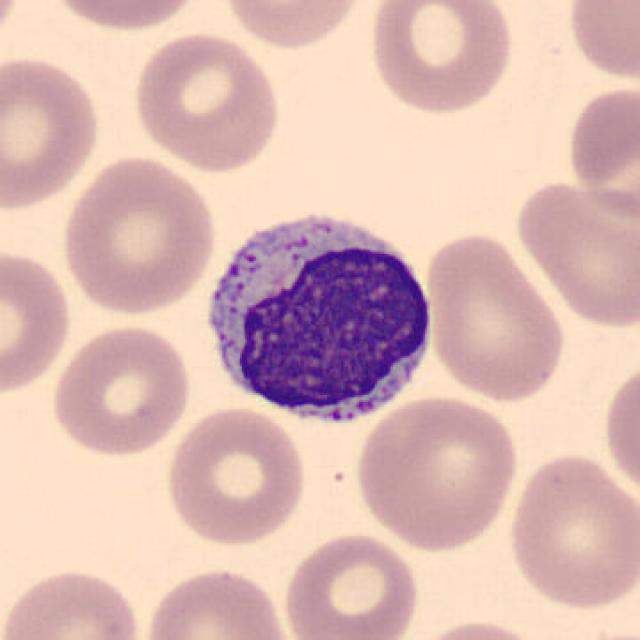Lymphocyte: (194, 198, 444, 436)
RBC: (350, 392, 521, 554), (55, 152, 221, 317), (421, 227, 569, 404), (128, 28, 284, 175), (503, 450, 638, 614), (162, 404, 309, 548), (510, 175, 638, 332), (48, 321, 194, 458), (364, 0, 517, 116), (0, 51, 103, 213), (281, 529, 423, 640), (139, 564, 297, 640), (0, 243, 75, 397), (0, 564, 148, 640), (562, 79, 638, 224), (215, 0, 368, 53), (563, 0, 638, 86), (599, 354, 640, 504), (41, 0, 208, 33), (400, 615, 551, 640), (0, 0, 25, 58)
